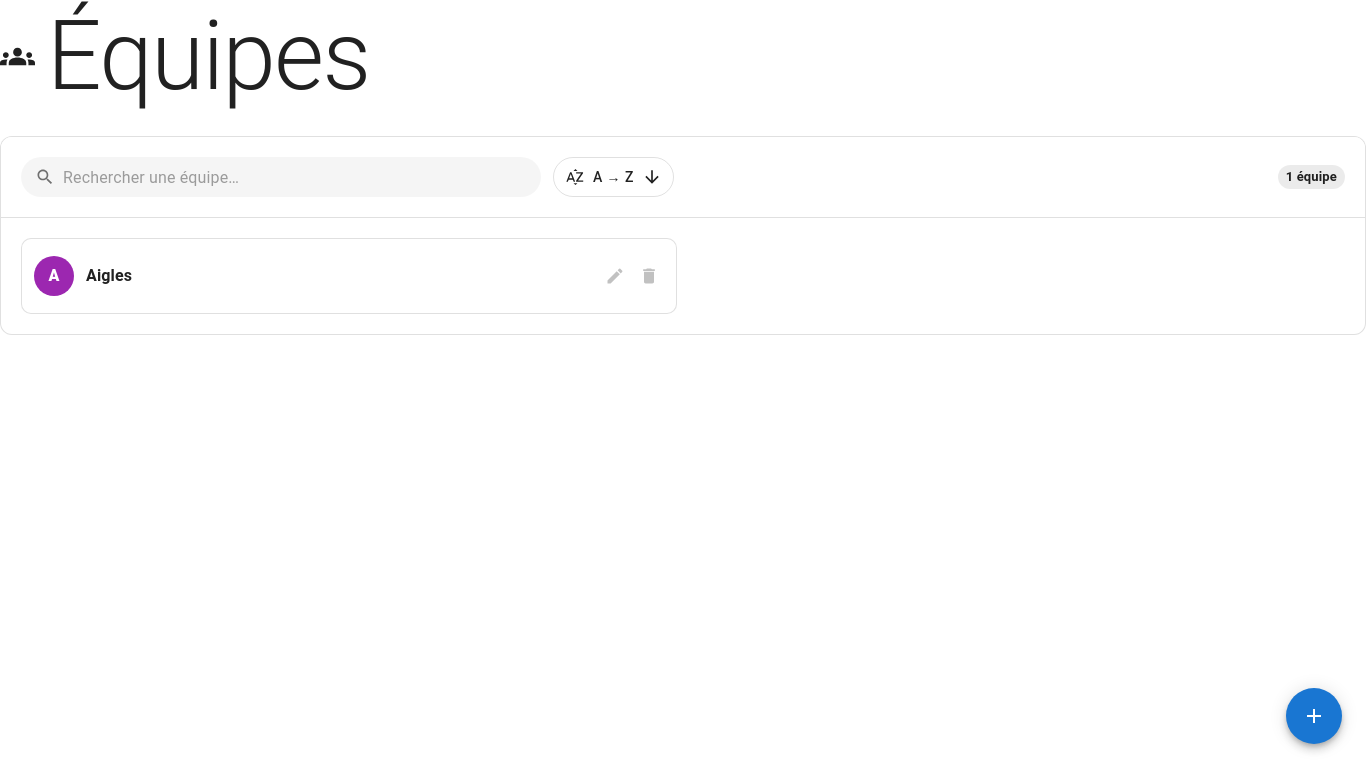
it: AdminTeamsView › should display the deletion error when the API rejects it
Click the button named "Supprimer Aigles": (649, 276) [634, 261, 664, 291]
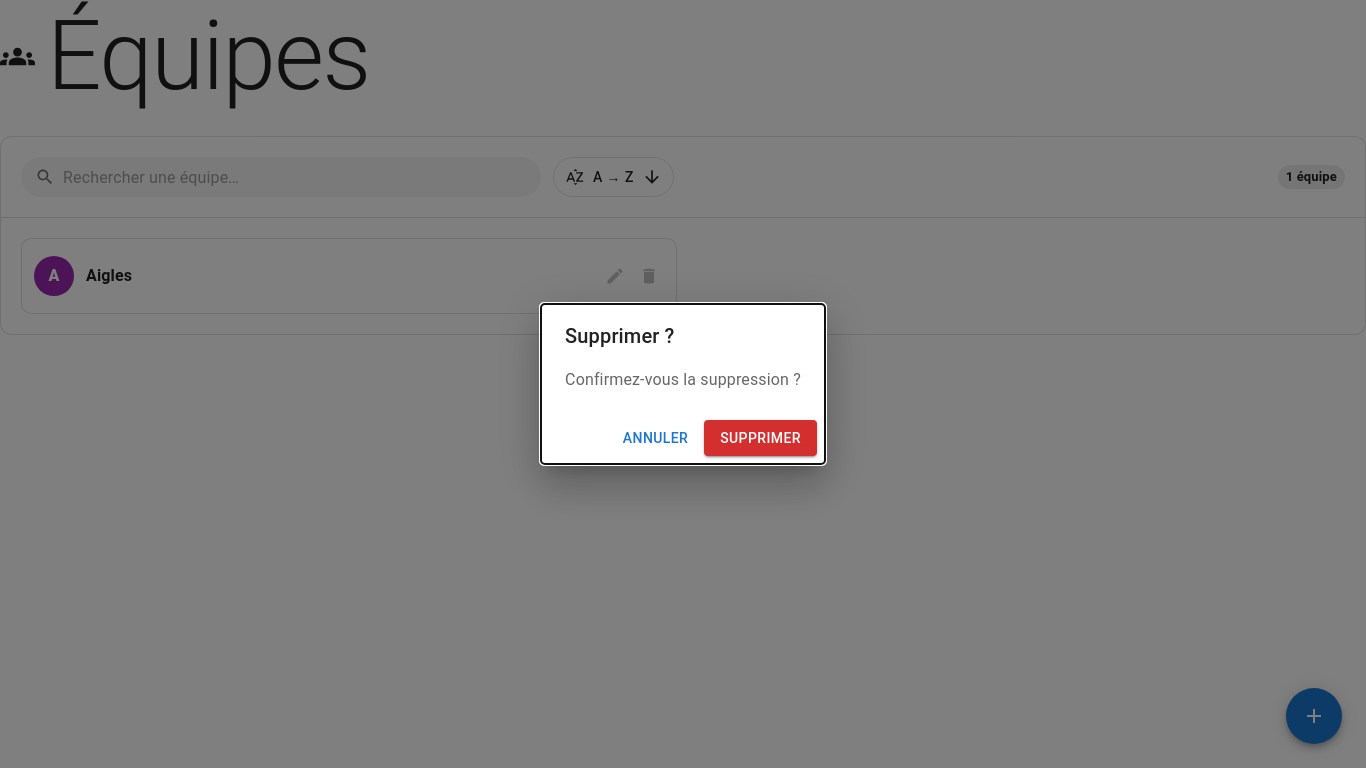
Click the button "Supprimer": (761, 438) [704, 420, 817, 456]
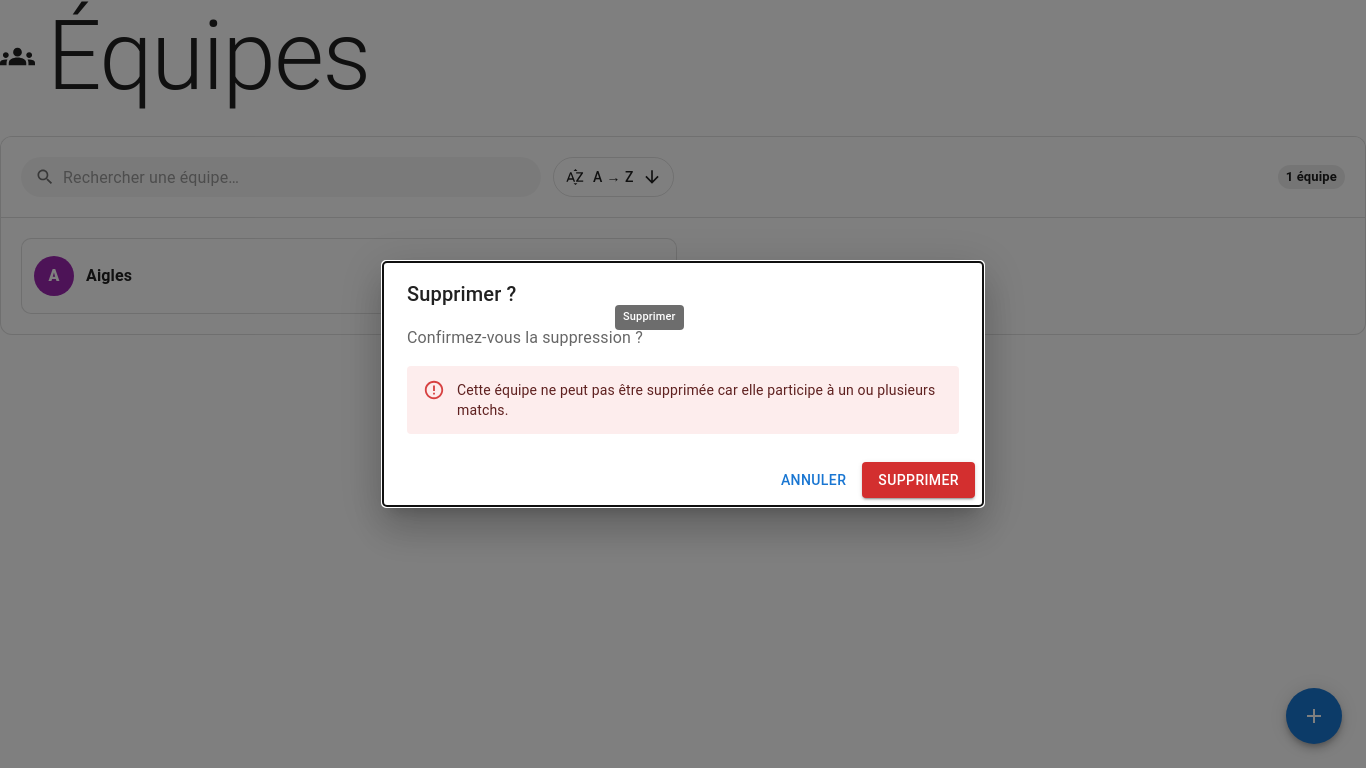
Expected: the text "Cette équipe ne peut pas être supprimée car elle participe à un ou plusieurs matchs." is shown, [457, 382, 935, 418]
